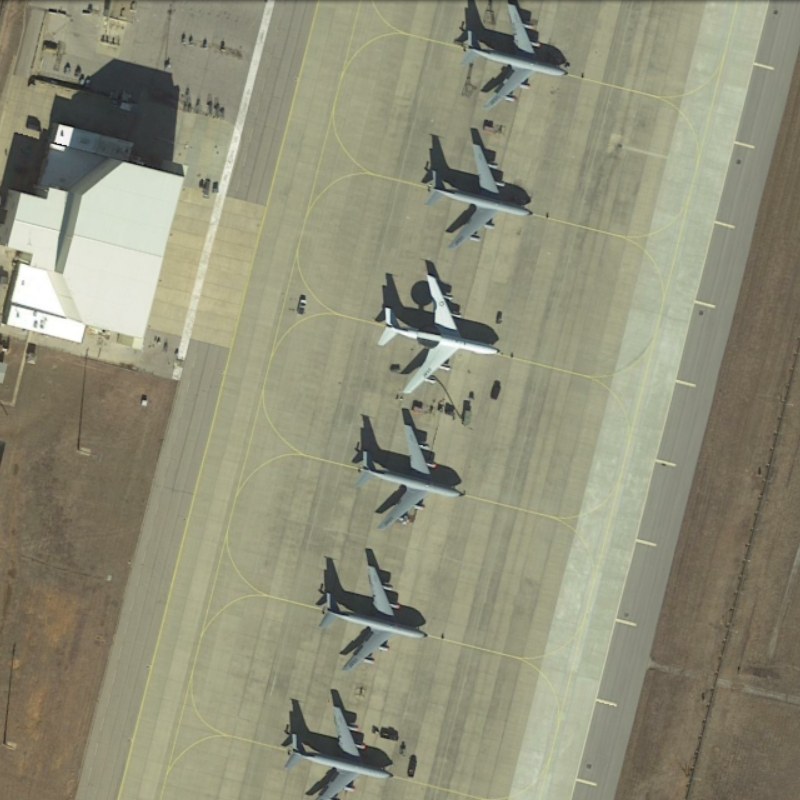A14: (310, 551, 437, 679), (418, 132, 542, 255), (342, 416, 476, 529), (271, 694, 409, 800), (450, 1, 573, 116)
A7: (370, 261, 505, 403)
